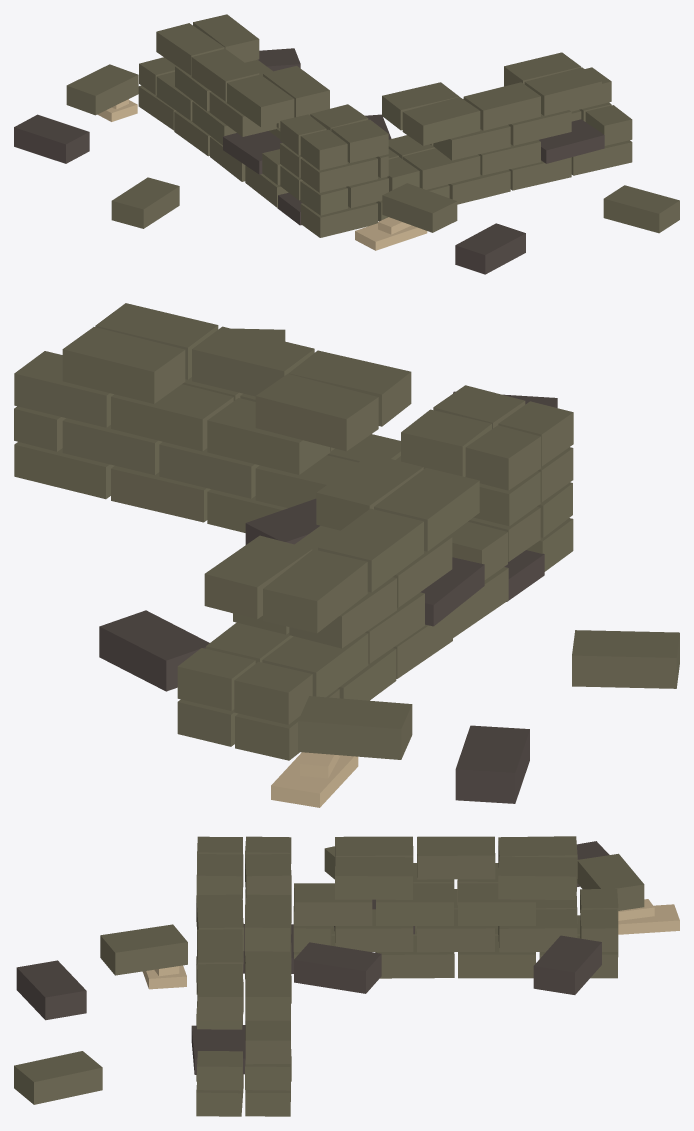
File: SM_SacosEsquina_v0_Recto_e1_Danado_LOD0.fbx
The picture shows the model from 3 angles, top to bottom: view 1: azimuth 30°, elevation 25°; view 2: azimuth 150°, elevation 25°; view 3: azimuth 270°, elevation 25°; orthographic projection. The views are drawn at different scales.
Visible parts, largest first — view 1: SM_sacos_piezas_v1_LOD0; view 2: SM_sacos_piezas_v1_LOD0; view 3: SM_sacos_piezas_v1_LOD0.
Part boxes in pixels (box(x1,y1,x2,y2)): SM_sacos_piezas_v1_LOD0: box(14, 14, 679, 274); SM_sacos_piezas_v1_LOD0: box(14, 303, 679, 807); SM_sacos_piezas_v1_LOD0: box(14, 836, 679, 1116).
Size of the model in its own units: 6.28 by 1.18 by 6.91.
